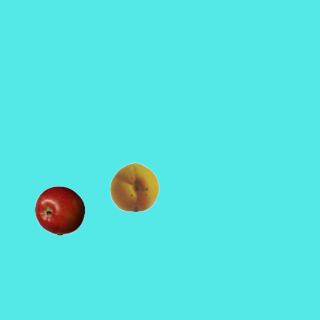Apple Braeburn: (34, 185, 84, 235)
Peach 2: (109, 161, 159, 211)
